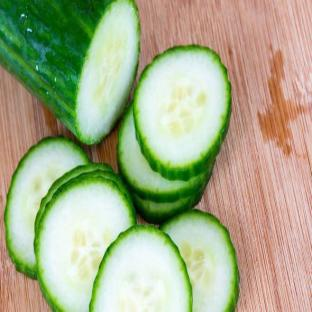Cucumber: (0, 0, 139, 143), (34, 176, 135, 311), (134, 46, 231, 180), (5, 138, 89, 278), (90, 226, 191, 311), (118, 106, 207, 202), (160, 210, 239, 311), (35, 164, 112, 233), (132, 168, 212, 223)
